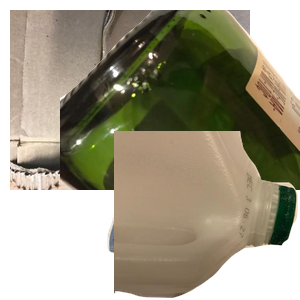cardboard: (10, 10, 250, 190)
glass: (60, 10, 300, 190)
plastic: (114, 131, 300, 300)
trash: (105, 152, 280, 300)
